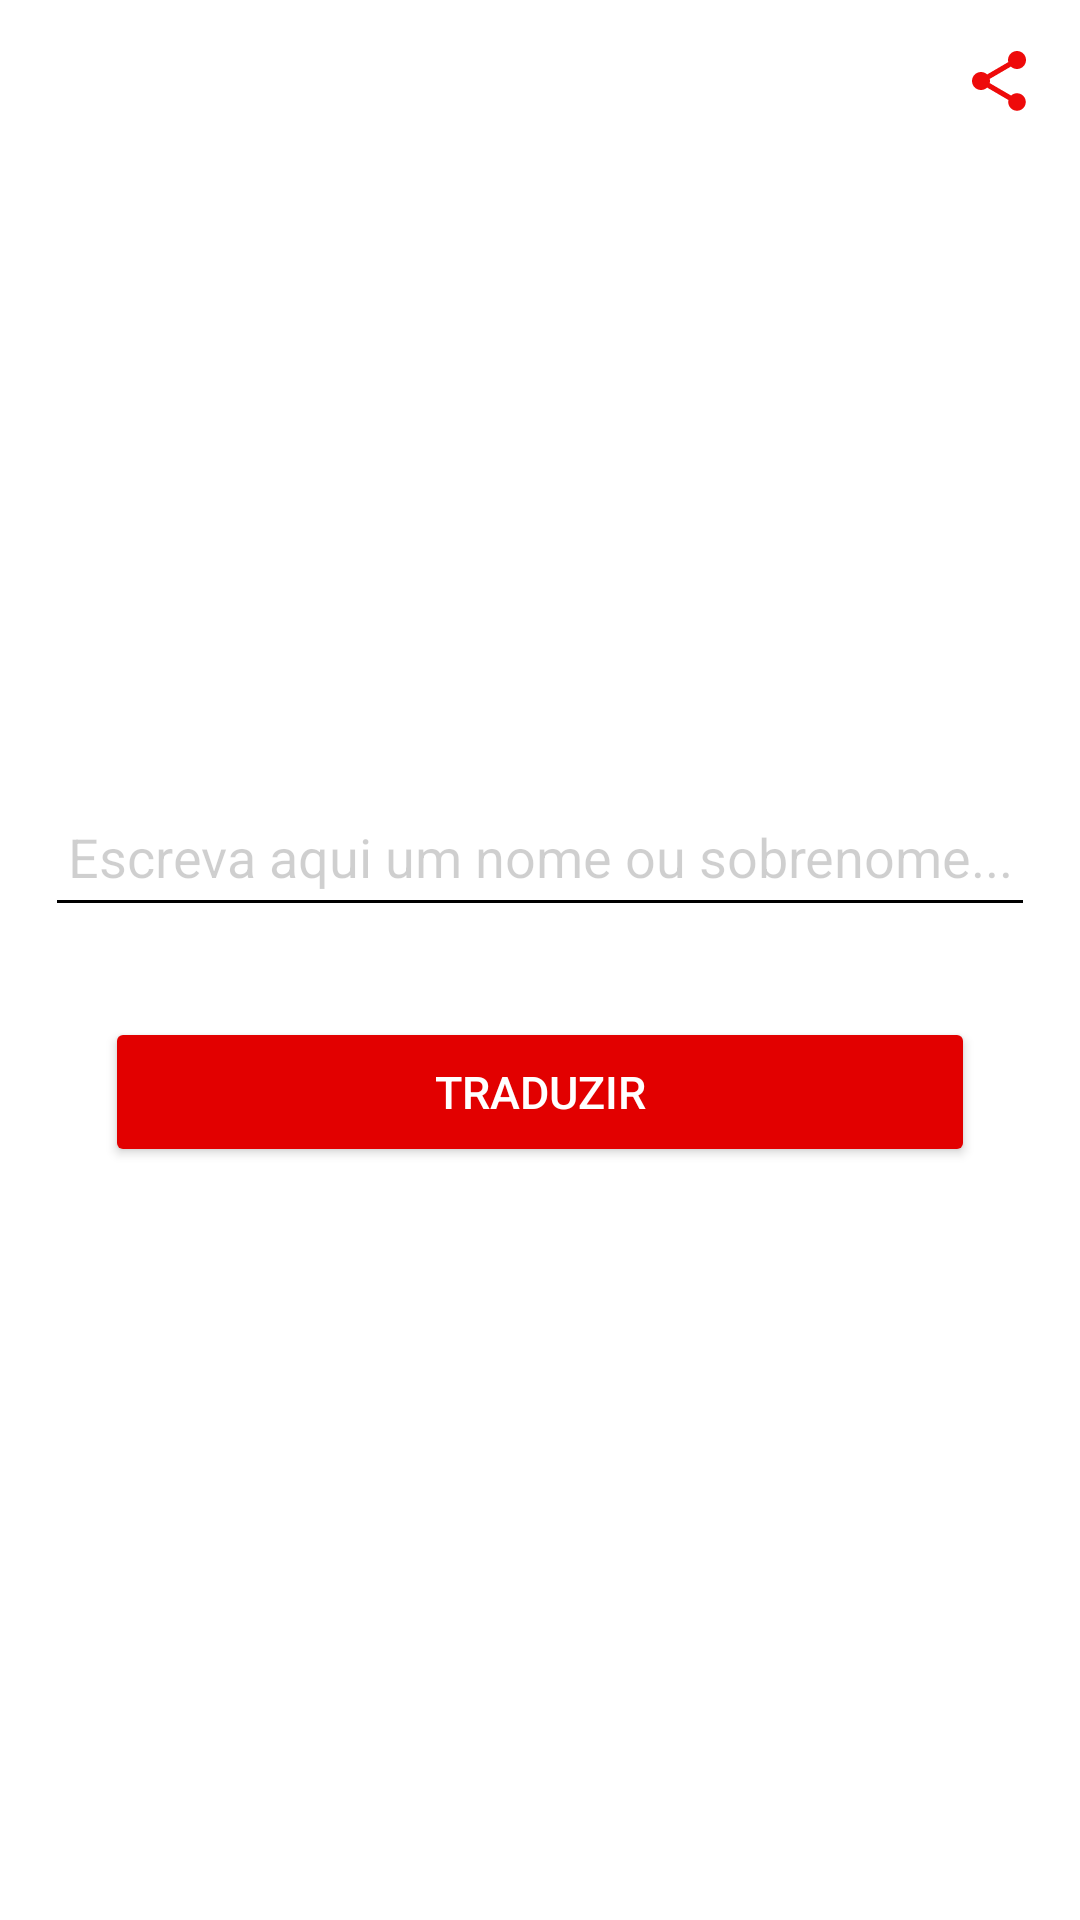

Icon bounding boxes for this 1080px x 1920px phone screenshot, format (x1, y1, x2, y2):
share: (972, 51, 1026, 111)
